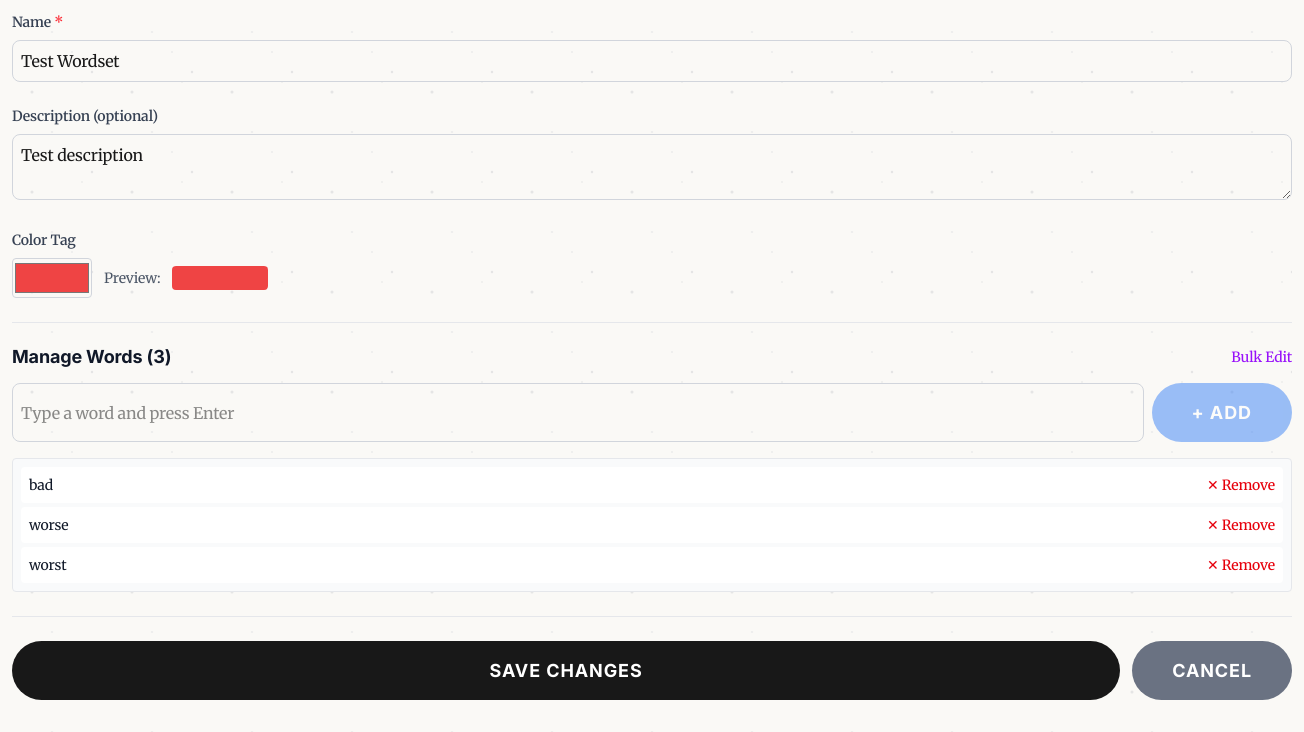
Scenario: WordsetEditor › words management › removes word when remove button clicked
The image size is (1304, 732).
Expected: the text "bad" is shown, [29, 475, 53, 495]
What coordinates should you click on to do the following:
click the button with test id "remove-word-button" in the row of "bad"
I would click on:
 (1241, 485)
Its box is [1207, 475, 1275, 495].
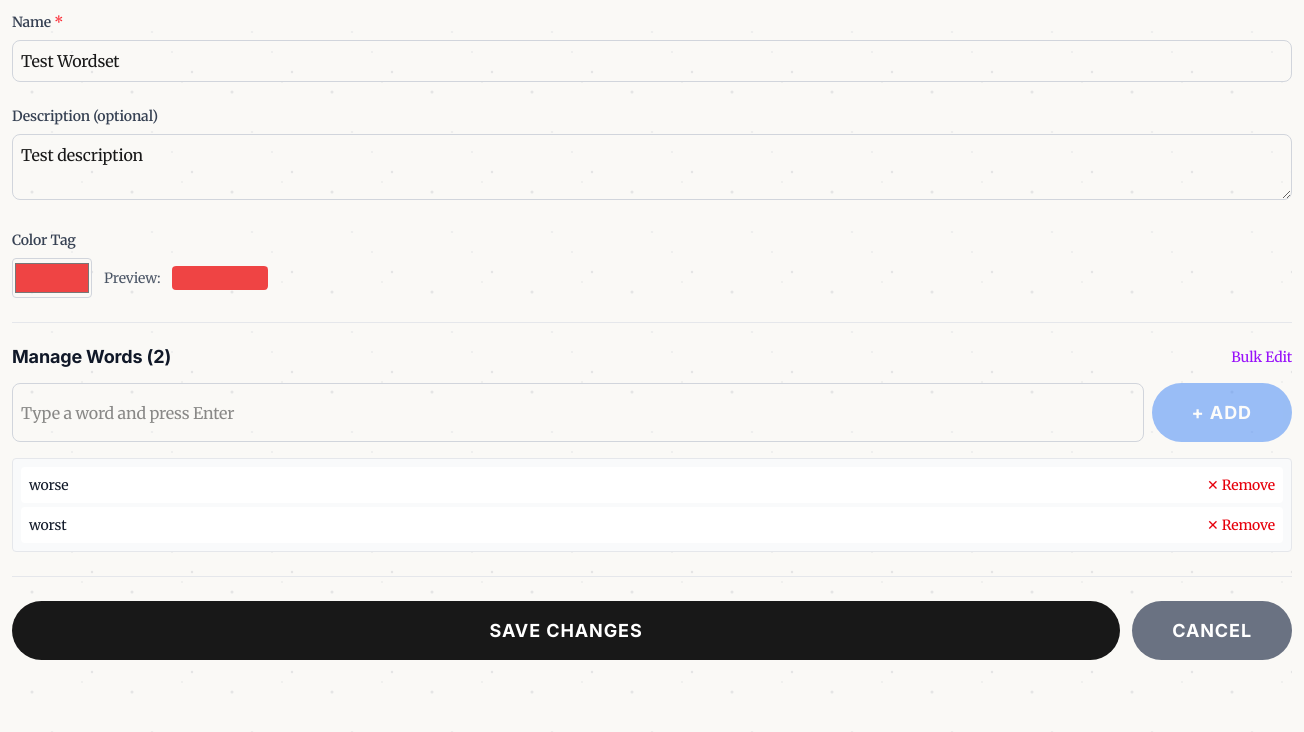
Expected: the text "bad" is gone
Expected: the heading "Manage Words (2)" is shown, [12, 347, 171, 367]
